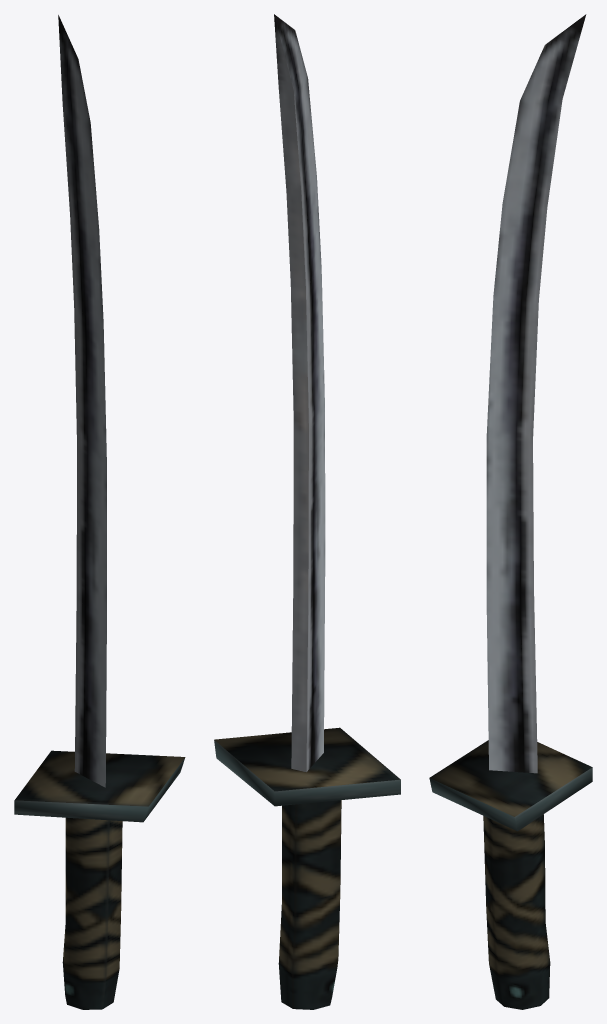
The model's file is WP_Futakuchi_Small.FBX.
3 views of the same model, side by side, from view 1: azimuth 30°, elevation 25°; view 2: azimuth 150°, elevation 25°; view 3: azimuth 270°, elevation 25° (orthographic). The views are drawn at different scales.
Visible parts, largest first — view 1: WP_Futakuchi_Small; view 2: WP_Futakuchi_Small; view 3: WP_Futakuchi_Small.
Part boxes in pixels (x1,y1,x2,y2): WP_Futakuchi_Small: [14, 15, 185, 1009]; WP_Futakuchi_Small: [214, 14, 400, 1009]; WP_Futakuchi_Small: [429, 14, 592, 1009].
Bounding box in the file's own units: 15.75 × 83.02 × 12.47.
